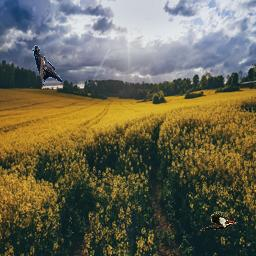Crow: (32, 45, 62, 85)
Woodpecker: (200, 211, 240, 231)
